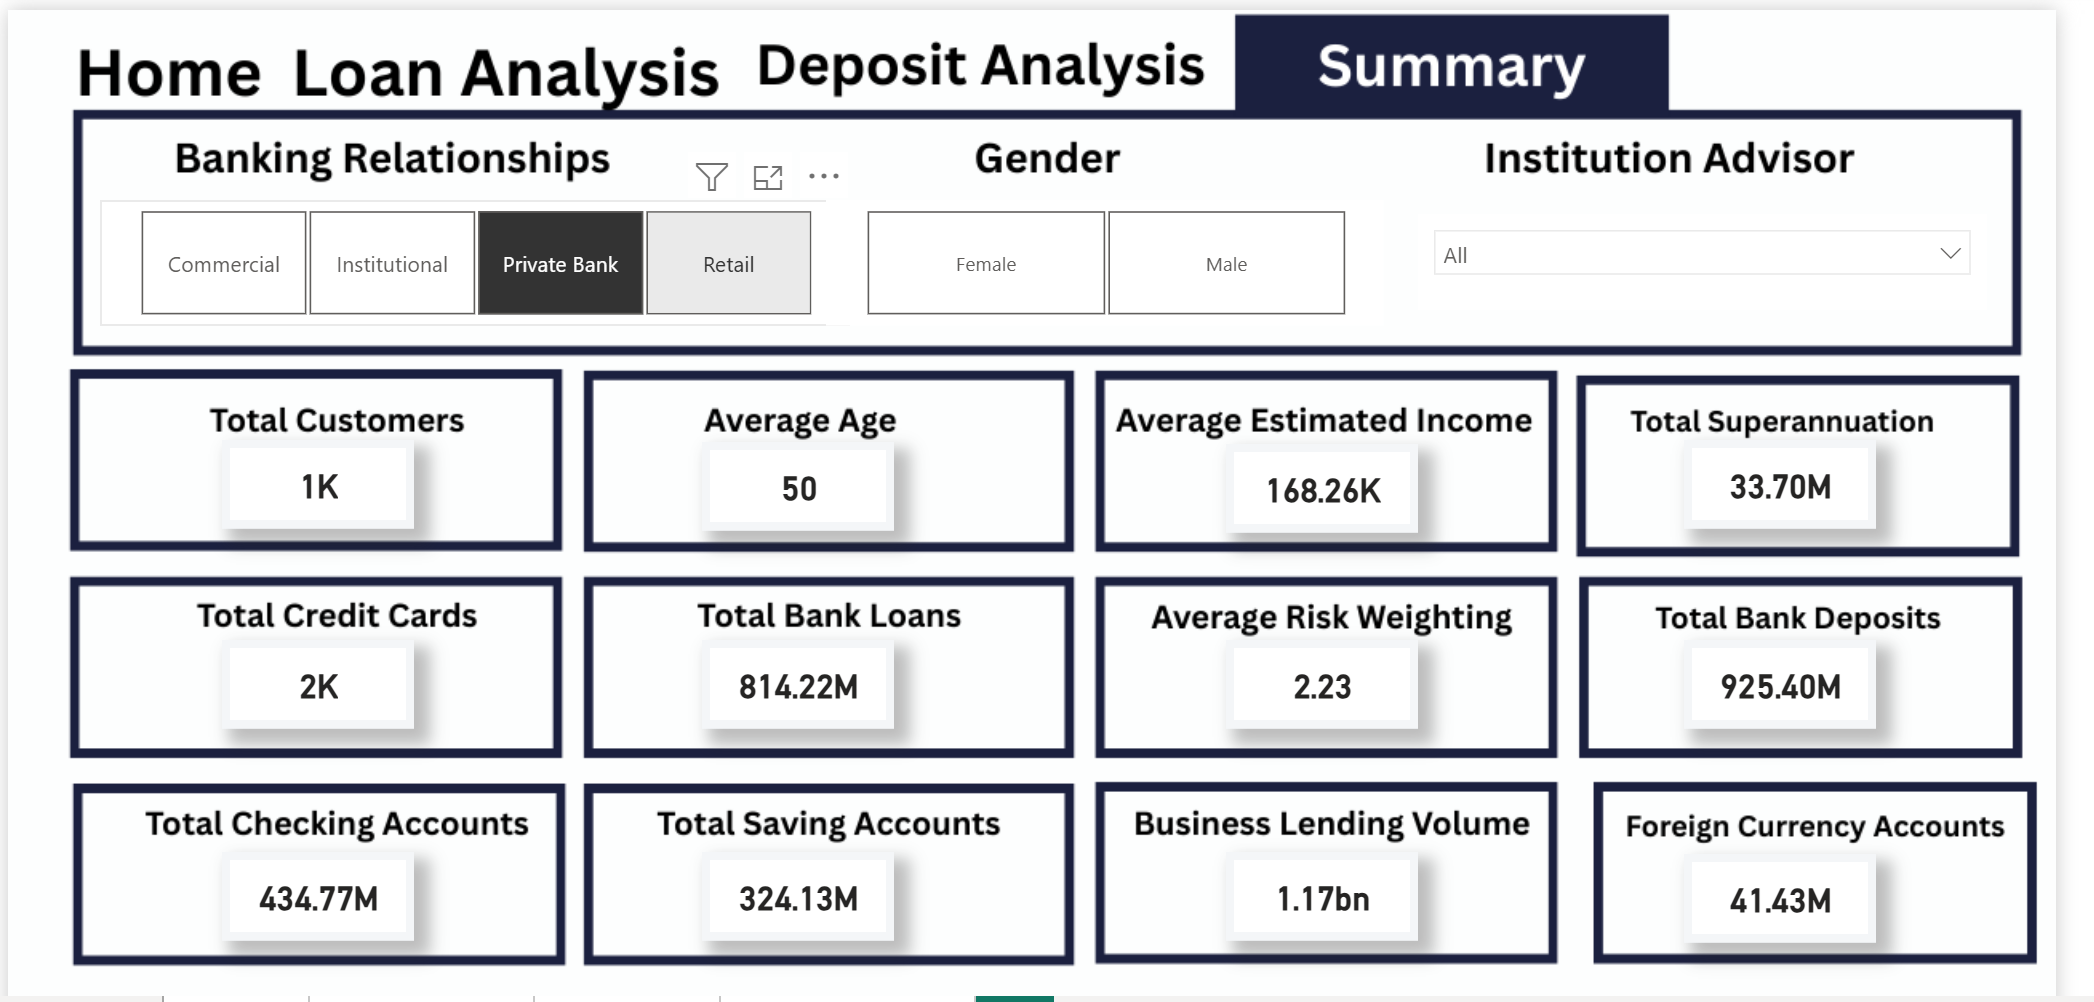

What the dashboard file says about the page in this screenshot:
{"tool":"powerbi","page":{"name":"Summary","canvas":[1280,720],"ordinal":2},"visuals":[{"type":"cardVisual","fields":{"Data":["Banking_Clients.Total Clients"]},"box":[134.3,268.6,120,55.7],"z":0},{"type":"cardVisual","fields":{"Data":["Banking_Clients.Avg age"]},"box":[434.3,270,120,55.7],"z":1},{"type":"cardVisual","fields":{"Data":["Banking_Clients.Avg Estimated Income"]},"box":[761.4,271.4,120,55.7],"z":2},{"type":"cardVisual","fields":{"Data":["Sum(Banking_Clients.Superannuation Savings)"]},"box":[1047.1,268.6,120,55.7],"z":3},{"type":"cardVisual","fields":{"Data":["Sum(Banking_Clients.Bank Deposits)"]},"box":[1047.1,394.3,120,55.7],"z":4},{"type":"cardVisual","fields":{"Data":["Banking_Clients.Avg Risk Weighting"]},"box":[761.4,394.3,120,55.7],"z":5},{"type":"cardVisual","fields":{"Data":["Banking_Clients.Total Bank Loans"]},"box":[434.3,394.3,120,55.7],"z":6},{"type":"cardVisual","fields":{"Data":["Banking_Clients.Total Credit Cards"]},"box":[134.3,394.3,120,55.7],"z":7},{"type":"cardVisual","fields":{"Data":["Banking_Clients.Total Checking Accounts"]},"box":[134.3,525.7,120,55.7],"z":8},{"type":"cardVisual","fields":{"Data":["Banking_Clients.Total Saving Accounts"]},"box":[434.3,525.7,120,55.7],"z":9},{"type":"cardVisual","fields":{"Data":["Sum(Banking_Clients.Business Lending)"]},"box":[761.4,525.7,120,55.7],"z":10},{"type":"cardVisual","fields":{"Data":["Sum(Banking_Clients.Foreign Currency Account)"]},"box":[1047.1,527.1,120,55.7],"z":11},{"type":"actionButton","box":[34.3,20,127.1,40],"z":12},{"type":"actionButton","box":[177.1,20,270,40],"z":13},{"type":"actionButton","box":[464.3,20,284.3,40],"z":14},{"type":"slicer","fields":{"Values":["Banking_Clients.BRId"]},"box":[57.1,118.6,468.6,78.6],"z":15},{"type":"slicer","fields":{"Values":["Banking_Clients.GenderId"]},"box":[511.4,118.6,348.6,78.6],"z":16},{"type":"slicer","fields":{"Values":["Banking_Clients.IAId"]},"box":[881.4,127.1,355.7,60],"z":17}]}

Visuals, with their boxes on the page's 1280x720 design canvas (x1, y1, x2, y2). These are canvas units, not pixel positions in the 2094x1002 screenshot, which may show the page scaled, cropped or inside an application window:
cardVisual - Banking_Clients.Total Clients: region(134, 269, 254, 324)
cardVisual - Banking_Clients.Avg age: region(434, 270, 554, 326)
cardVisual - Banking_Clients.Avg Estimated Income: region(761, 271, 881, 327)
cardVisual - Sum(Banking_Clients.Superannuation Savings): region(1047, 269, 1167, 324)
cardVisual - Sum(Banking_Clients.Bank Deposits): region(1047, 394, 1167, 450)
cardVisual - Banking_Clients.Avg Risk Weighting: region(761, 394, 881, 450)
cardVisual - Banking_Clients.Total Bank Loans: region(434, 394, 554, 450)
cardVisual - Banking_Clients.Total Credit Cards: region(134, 394, 254, 450)
cardVisual - Banking_Clients.Total Checking Accounts: region(134, 526, 254, 581)
cardVisual - Banking_Clients.Total Saving Accounts: region(434, 526, 554, 581)
cardVisual - Sum(Banking_Clients.Business Lending): region(761, 526, 881, 581)
cardVisual - Sum(Banking_Clients.Foreign Currency Account): region(1047, 527, 1167, 583)
actionButton: region(34, 20, 161, 60)
actionButton: region(177, 20, 447, 60)
actionButton: region(464, 20, 749, 60)
slicer - Banking_Clients.BRId: region(57, 119, 526, 197)
slicer - Banking_Clients.GenderId: region(511, 119, 860, 197)
slicer - Banking_Clients.IAId: region(881, 127, 1237, 187)
